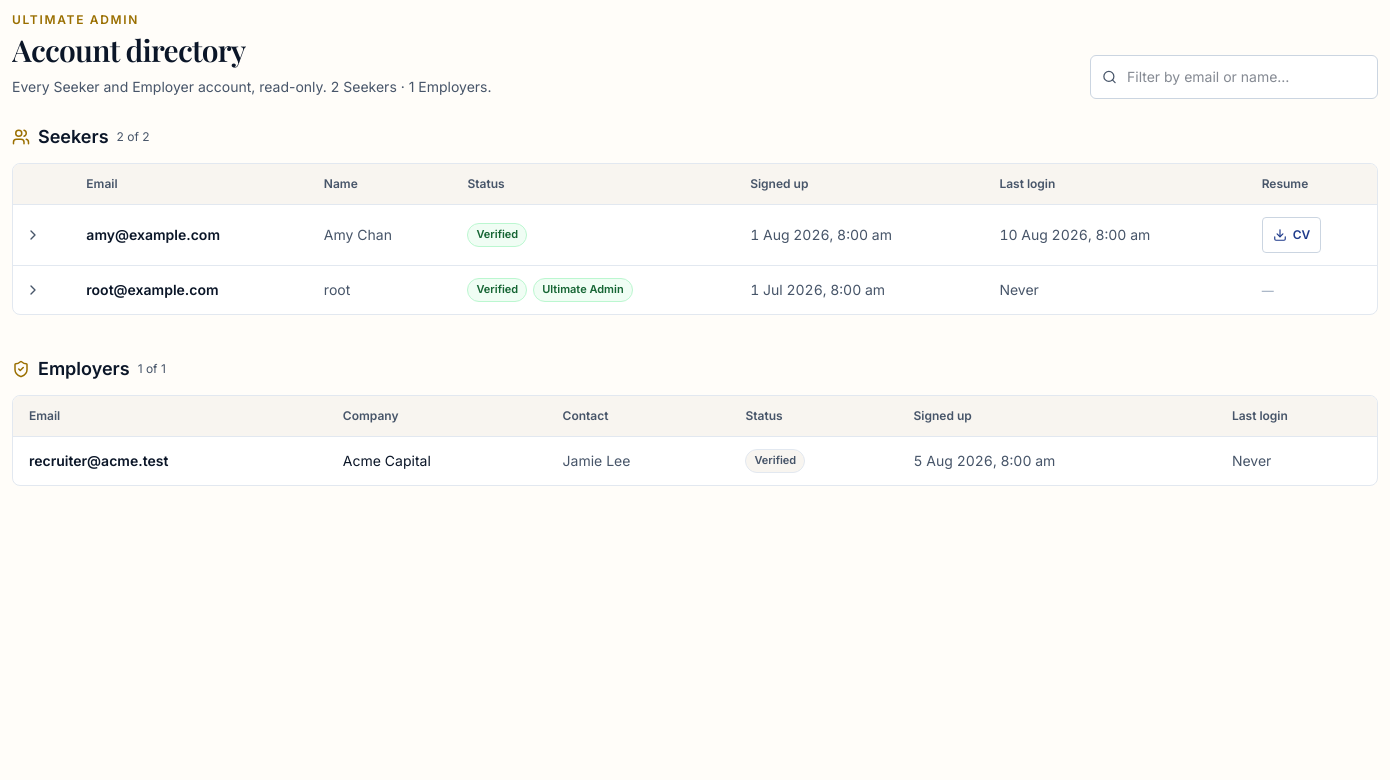
Scenario: AccountsDirectory › fetches a Seeker's interests only once their row is expanded
Click the button named "Show interests for amy@example.com" at x=33, y=235, box [21,223,45,247]
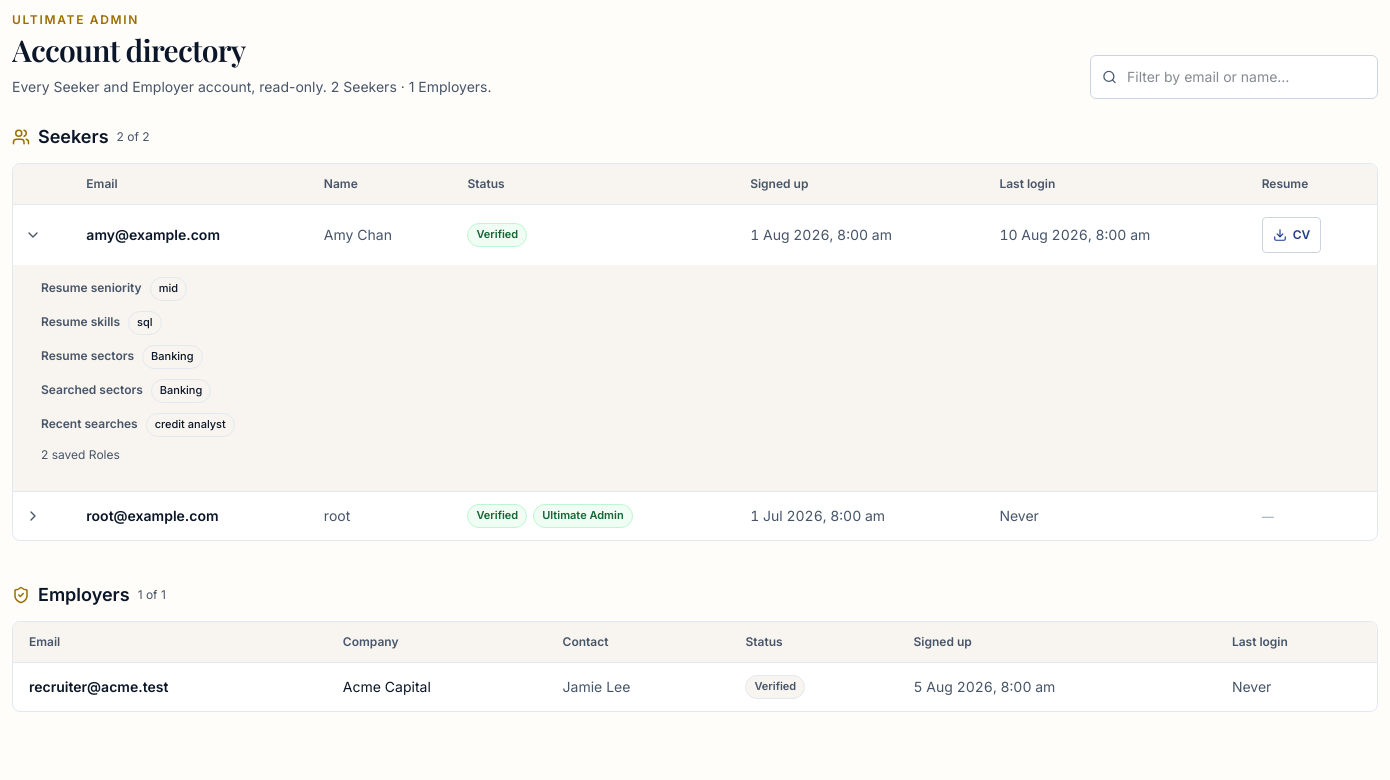
Expected: the text "sql" is shown, [128,311,162,335]
Expected: the text "credit analyst" is shown, [146,413,235,437]
Expected: the text "2 saved Roles" is shown, [41,447,120,462]
